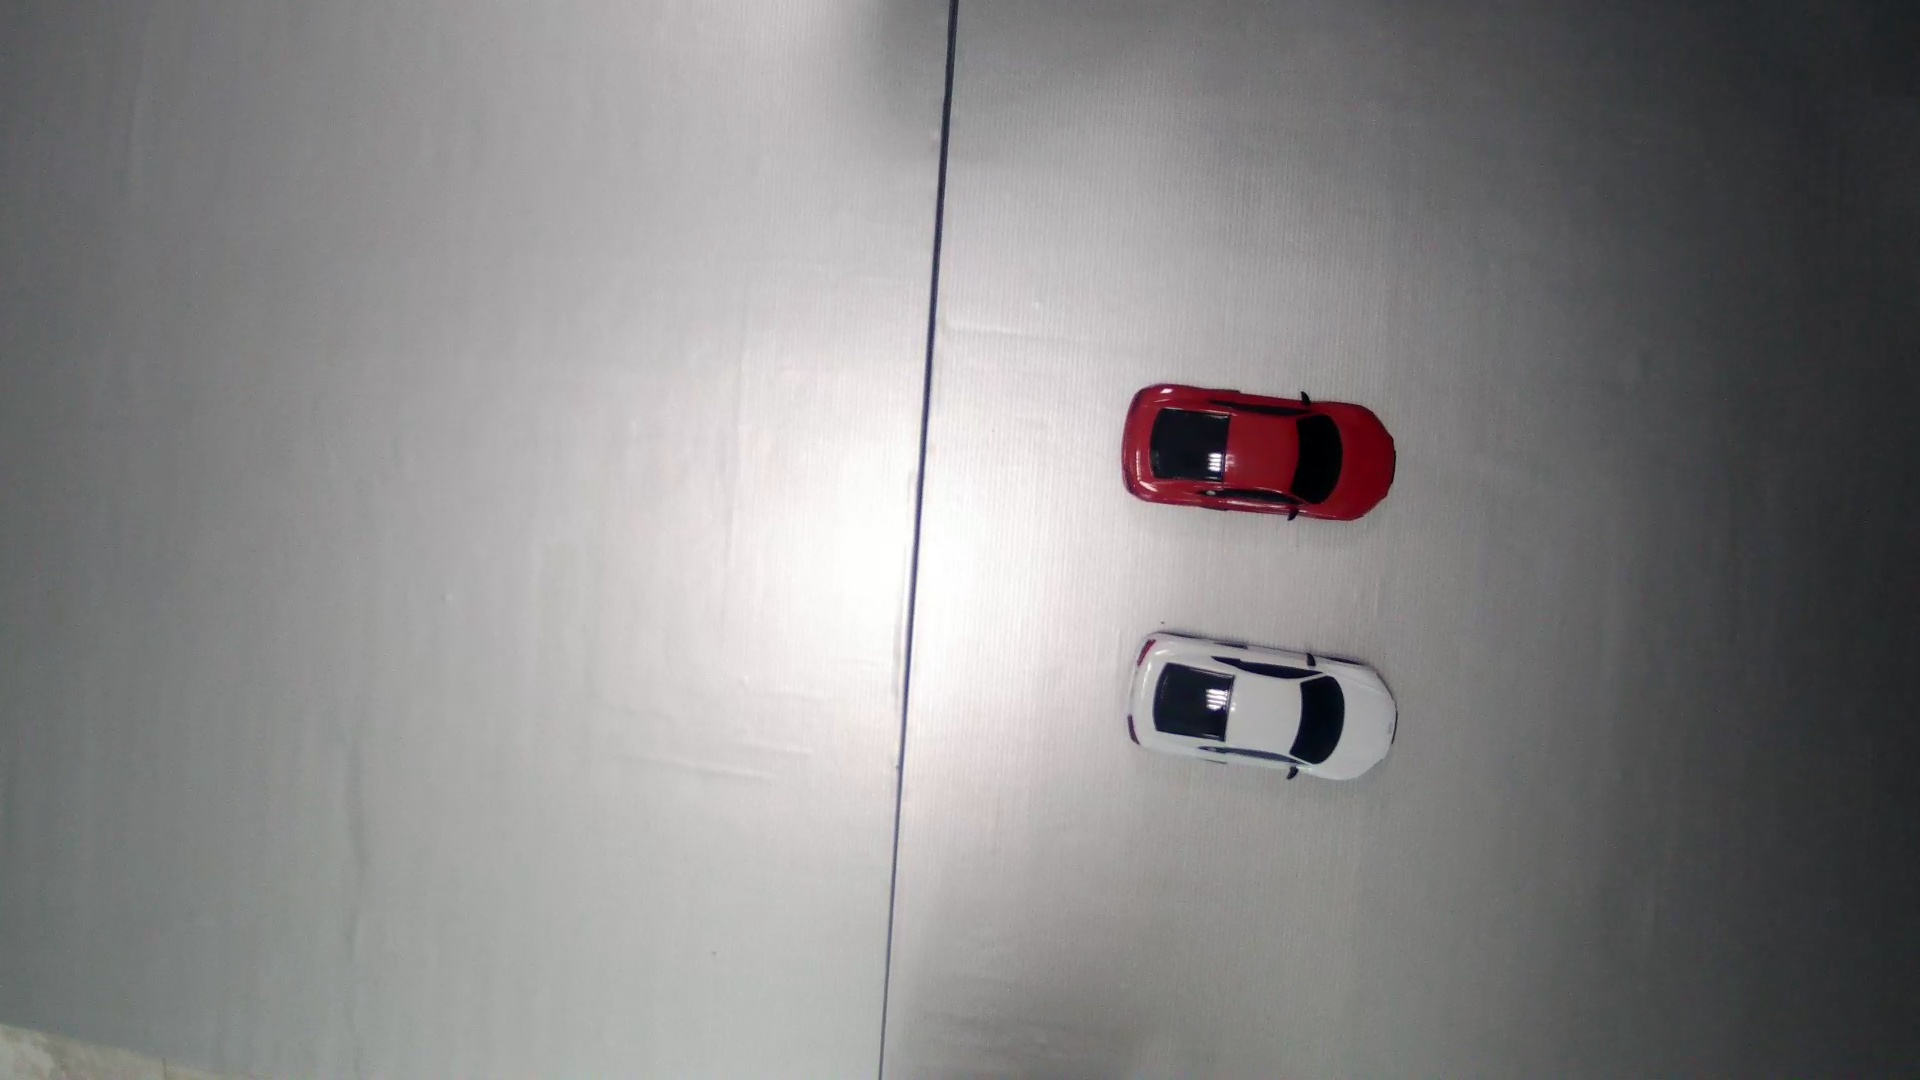remote_car: (1127, 628, 1398, 783), (1121, 382, 1400, 520)
